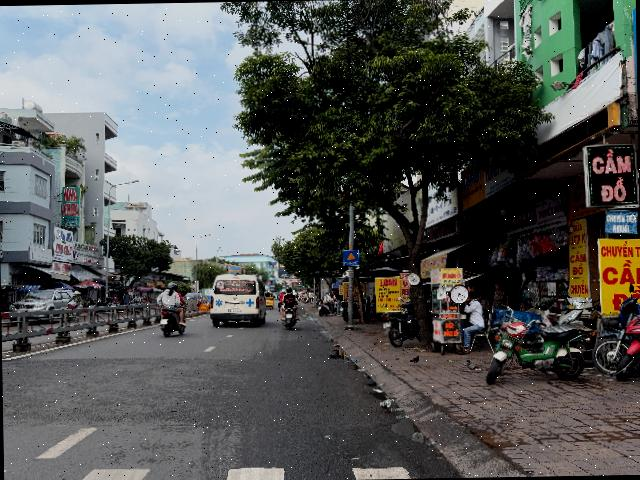khu-vuc-cho-phia-truoc: (344, 250, 359, 266)
